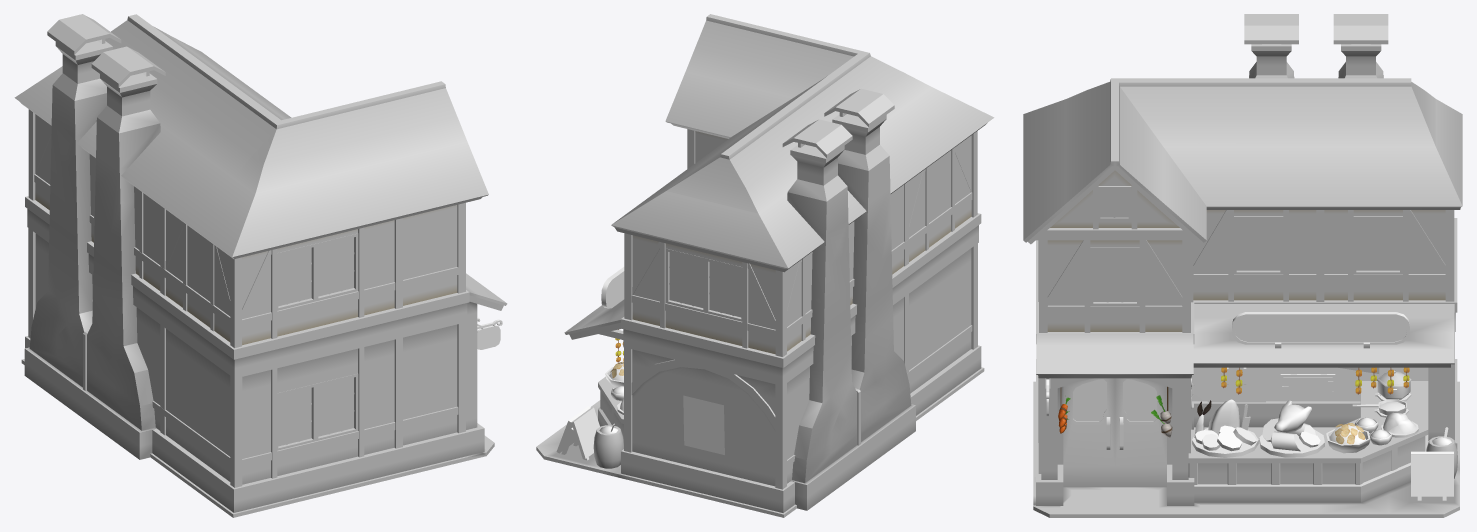
The model's file is FieldBuilding_1202_03_Kitchen.fbx.
The picture shows the model from 3 angles, left to right: view 1: azimuth 30°, elevation 25°; view 2: azimuth 150°, elevation 25°; view 3: azimuth 270°, elevation 25°; orthographic projection. The views are drawn at different scales.
Parts seen in each view (by area): view 1: BuildingMesh03, BuildingGlass03; view 2: BuildingMesh03, BuildingGlass03; view 3: BuildingMesh03, BuildingGlass03, BuildingAlpha03_a.
Boxes of the visible parts, x1,y1,x2,y2 form: BuildingMesh03: (14, 14, 507, 517); BuildingGlass03: (278, 237, 353, 446); BuildingMesh03: (536, 14, 994, 517); BuildingGlass03: (669, 252, 741, 317); BuildingMesh03: (1023, 14, 1462, 517); BuildingGlass03: (1093, 189, 1399, 301); BuildingAlpha03_a: (1058, 367, 1409, 444).
Size of the model in its own units: 6.1 by 7.5 by 8.03.
Materials: 3 (1 with a texture image).
